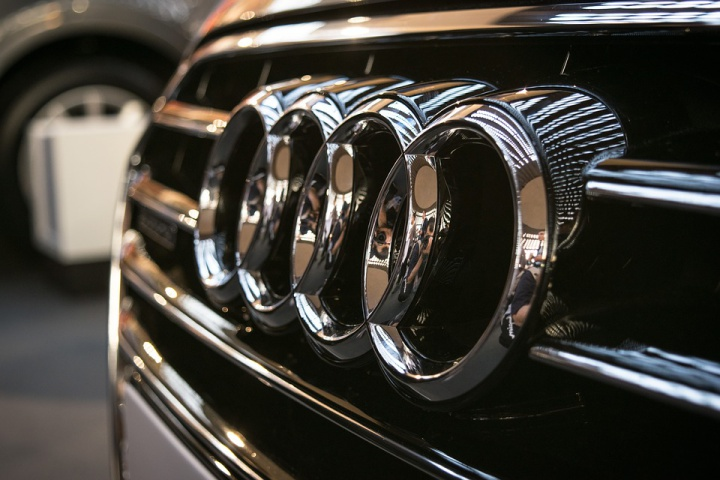audi: (177, 74, 634, 411)
